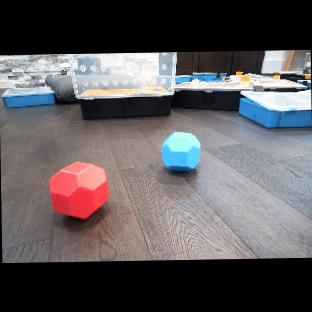V5_BLUE: (161, 130, 201, 173)
V5_RED: (47, 160, 110, 221)
